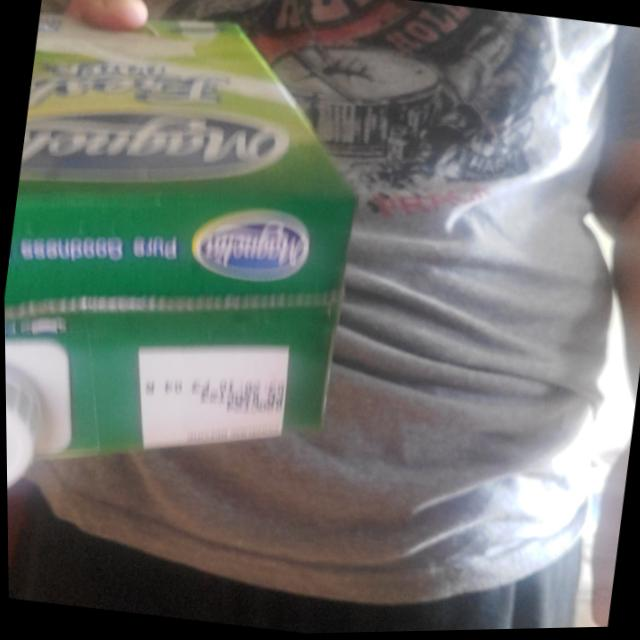milk: (0, 0, 384, 537)
